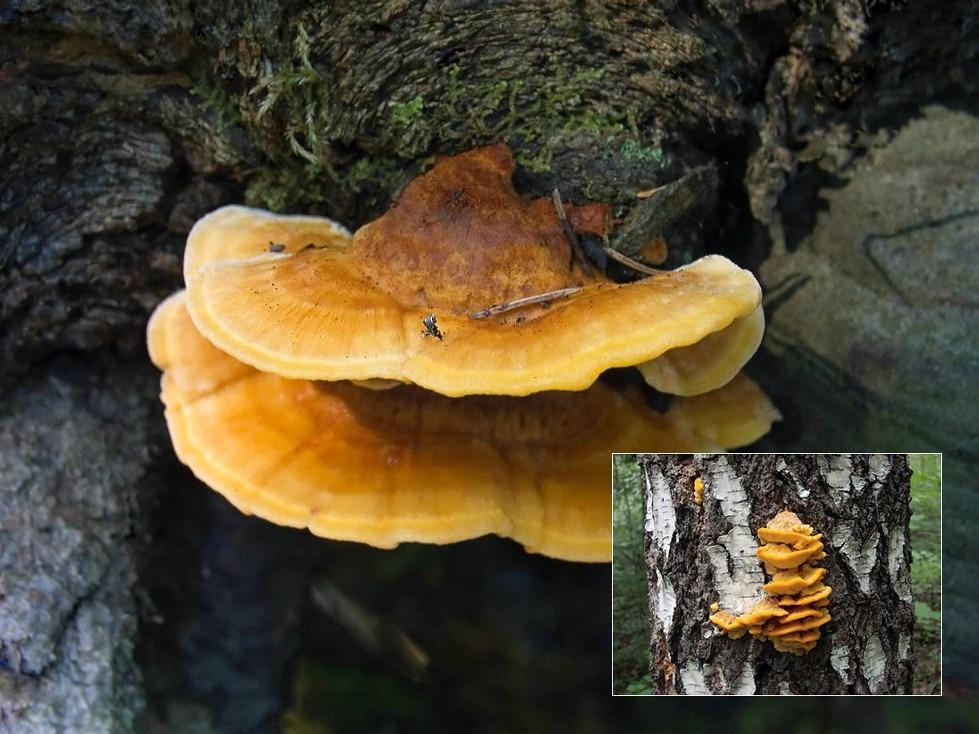Sulphur-yellow tinder fungus: (148, 146, 777, 560), (148, 292, 712, 560), (184, 146, 763, 395), (149, 293, 671, 560), (710, 511, 831, 654), (637, 306, 764, 395), (670, 372, 780, 446), (756, 511, 824, 574), (762, 609, 830, 642), (758, 516, 820, 547), (763, 564, 825, 594), (757, 541, 822, 569), (737, 597, 787, 627), (779, 581, 830, 605), (710, 610, 746, 638), (782, 608, 820, 624), (694, 476, 703, 504)
